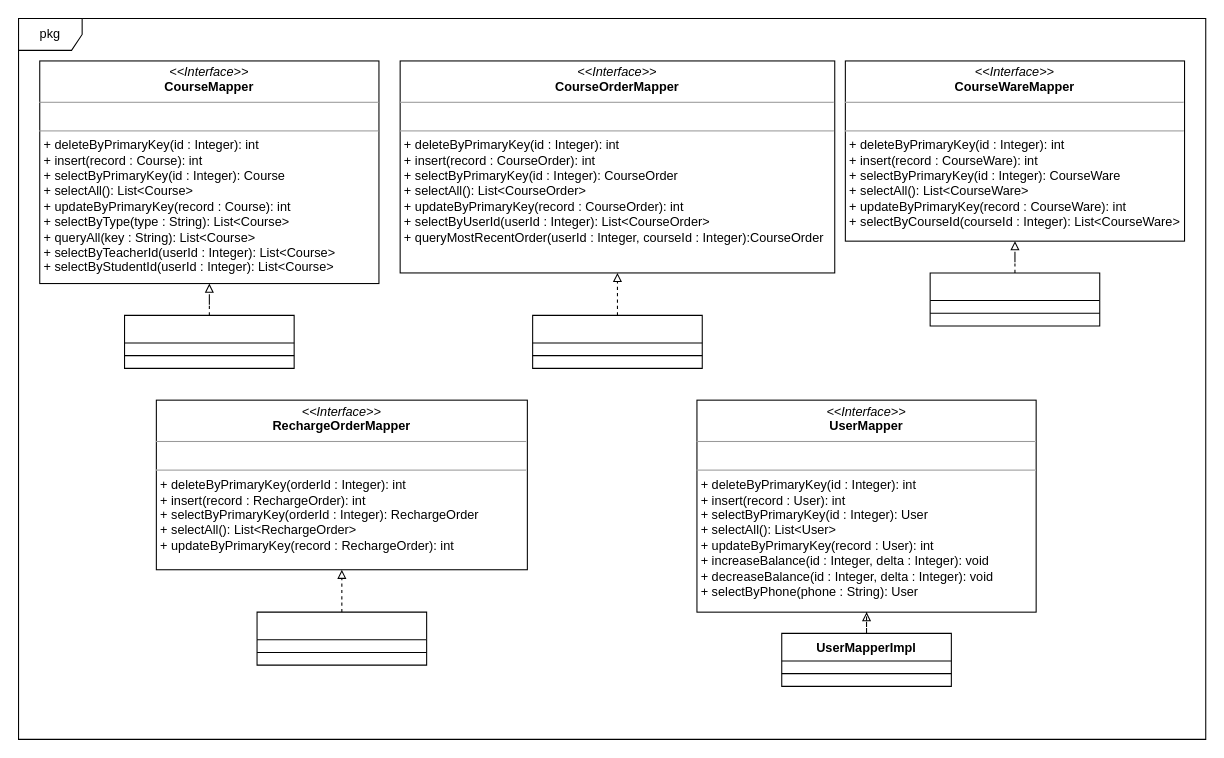
Image size: 1224x758. Some labels were removed from this diagram. Each missing label, with the centre of its shape:
CourseMapperImpl: the point at 208,341
CourseOrderMapperImpl: the point at 617,341
CourseWareMapperImpl: the point at 1014,299
RechargeOrderMapperImpl: the point at 341,638
